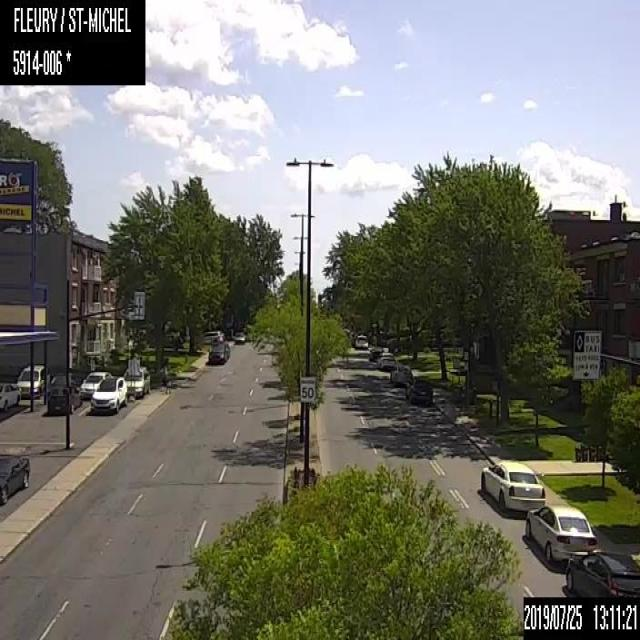pedestrian: (159, 360, 167, 390)
vehicle: (524, 504, 597, 564), (480, 459, 545, 513), (565, 551, 639, 598), (0, 453, 29, 504), (90, 375, 126, 414), (16, 363, 48, 399), (44, 386, 82, 414), (404, 368, 432, 402), (80, 370, 114, 397), (122, 366, 150, 397), (0, 381, 19, 411), (207, 340, 229, 365), (49, 371, 77, 386), (390, 364, 409, 385), (376, 351, 396, 369), (202, 329, 224, 344), (368, 346, 384, 361), (354, 333, 368, 349), (233, 330, 246, 342)
